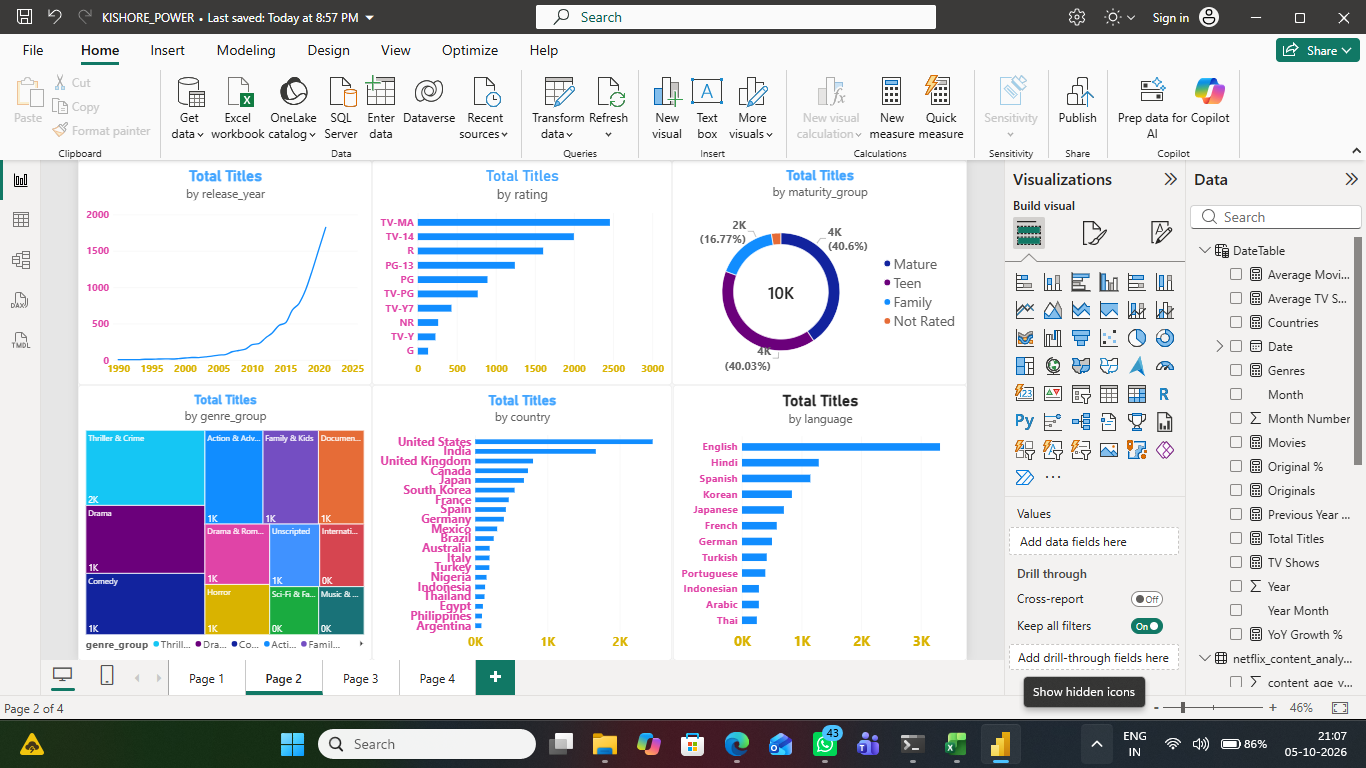

Layout of this report page (visuals, bound fields, positions):
{"tool":"powerbi","page":{"name":"Page 2","canvas":[1920,1080],"ordinal":1},"visuals":[{"type":"lineChart","fields":{"Y":["DateTable.Total Titles"],"Category":["netflix_content_analytics.release_year"]},"box":[0,0,635,486.3],"z":0},{"type":"treemap","fields":{"Group":["netflix_content_analytics.genre_group"],"Values":["DateTable.Total Titles"]},"box":[0,486.3,635,594.6],"z":1},{"type":"clusteredBarChart","fields":{"Category":["netflix_content_analytics.rating"],"Y":["DateTable.Total Titles"]},"box":[635,0,647.6,486.3],"z":2},{"type":"donutChart","fields":{"Category":["netflix_content_analytics.maturity_group"],"Y":["DateTable.Total Titles"]},"box":[1282.5,0,637.5,486.3],"z":3},{"type":"clusteredBarChart","fields":{"Category":["netflix_content_analytics.country"],"Y":["DateTable.Total Titles"]},"box":[635,486.3,647.6,594.6],"z":4},{"type":"clusteredBarChart","fields":{"Category":["netflix_content_analytics.language"],"Y":["DateTable.Total Titles"]},"box":[1285,486.3,635,594.6],"z":5}]}

Visuals, with their boxes on the page's 1920x1080 design canvas (x1, y1, x2, y2). These are canvas units, not pixel positions in the 1366x768 screenshot, which may show the page scaled, cropped or inside an application window:
lineChart - DateTable.Total Titles x netflix_content_analytics.release_year: bbox(0, 0, 635, 486)
treemap - netflix_content_analytics.genre_group x DateTable.Total Titles: bbox(0, 486, 635, 1081)
clusteredBarChart - netflix_content_analytics.rating x DateTable.Total Titles: bbox(635, 0, 1283, 486)
donutChart - netflix_content_analytics.maturity_group x DateTable.Total Titles: bbox(1282, 0, 1920, 486)
clusteredBarChart - netflix_content_analytics.country x DateTable.Total Titles: bbox(635, 486, 1283, 1081)
clusteredBarChart - netflix_content_analytics.language x DateTable.Total Titles: bbox(1285, 486, 1920, 1081)
